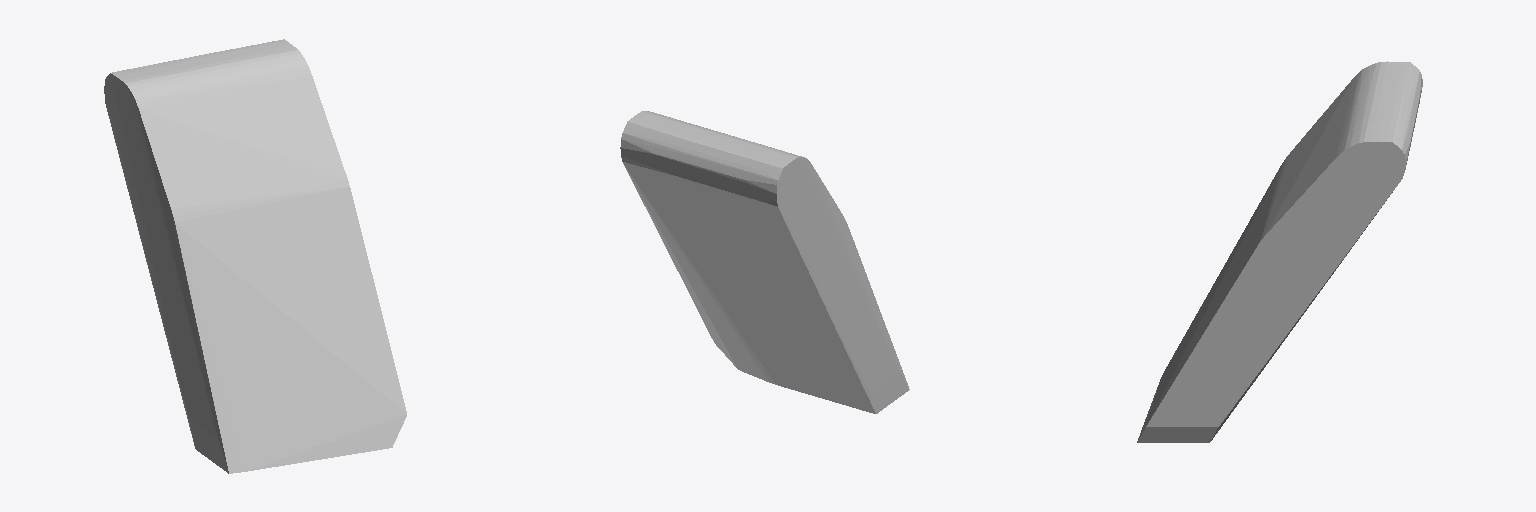
Rendered from Bowl_21_collision_13.obj.
3 views of the same model, side by side, from view 1: azimuth 30°, elevation 25°; view 2: azimuth 150°, elevation 25°; view 3: azimuth 270°, elevation 25° (orthographic).
Bounding box in the file's own units: 0.0517 × 0.091 × 0.076.